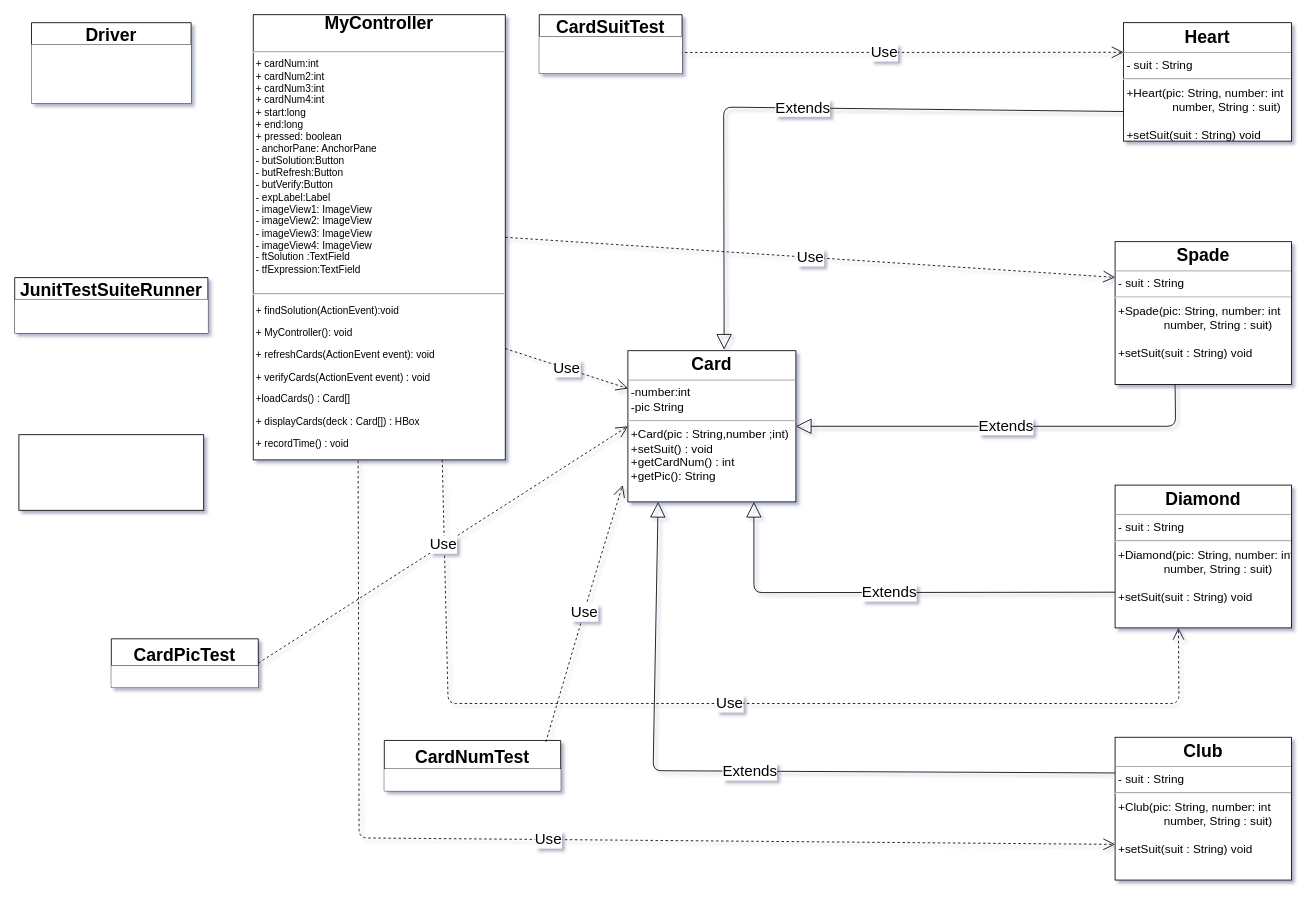
This 1311x900 diagram has some shape labels left out. The centre of each missing label's shape, as x and y in pixels:
+main(String[]) : void: pixel 110 316
+start(primaryStage: Stage):void +main(String[]) : void: pixel 111 73
+testGetCardNum(): void: pixel 472 779
+testGetPic(): pixel 184 676
+testGetSuit(): void: pixel 610 54
JUnitTestSuite: pixel 111 472
